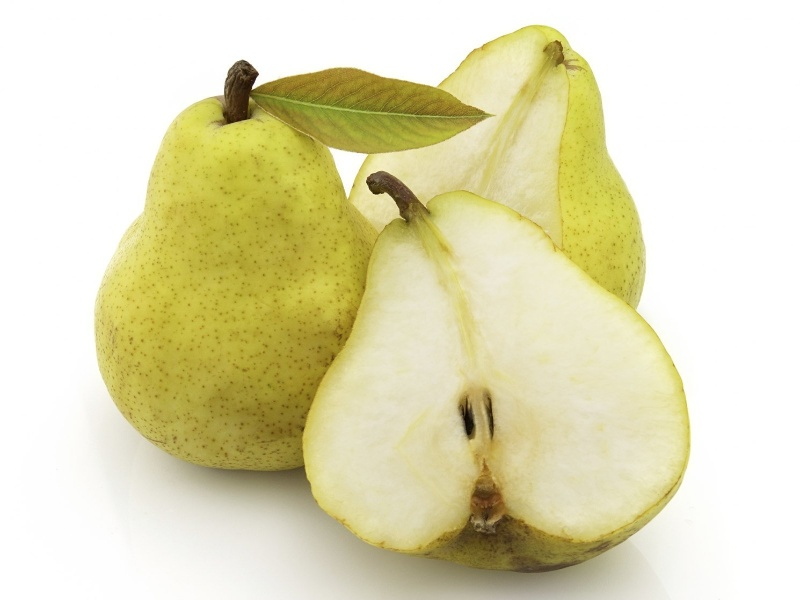Pera: (302, 171, 693, 574), (95, 59, 377, 469), (348, 26, 645, 313)
